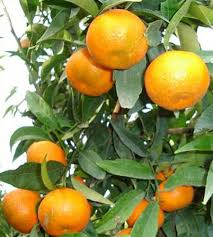orange: (149, 48, 210, 109), (84, 14, 148, 68), (62, 49, 116, 98), (38, 185, 92, 233), (1, 184, 42, 232), (21, 139, 66, 175)
